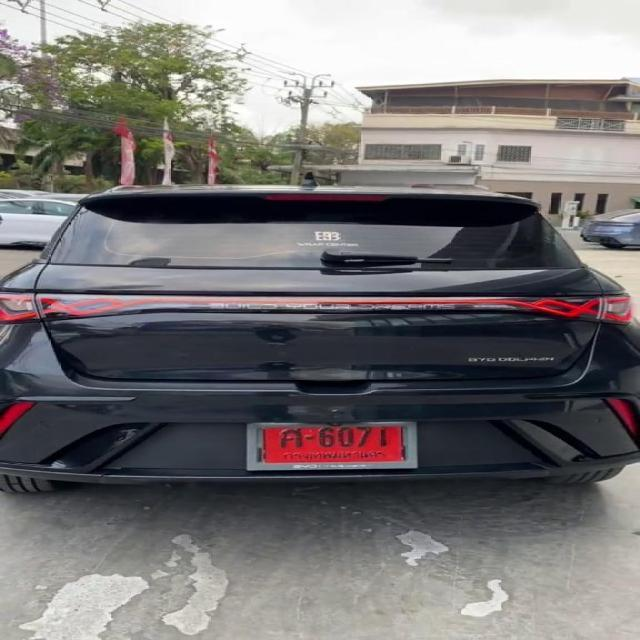Hatchback: (0, 186, 639, 492)
